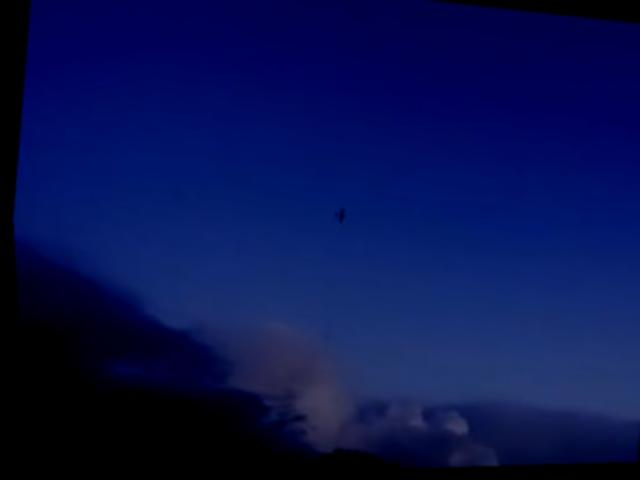uav: (327, 205, 348, 231)
